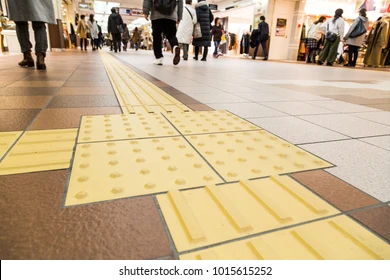piso_tatil: (1, 74, 389, 259)
piso_tatil_alerta: (57, 132, 225, 209), (181, 125, 338, 185), (74, 111, 184, 143), (162, 109, 267, 137)
piso_tatil_direcional: (147, 172, 344, 255), (1, 126, 81, 177), (114, 94, 186, 106), (111, 83, 168, 94), (108, 76, 151, 84)
piso_tatil_direcional_horizontal: (1, 124, 81, 175)
piso_tatil_direcional_vertical: (145, 170, 342, 253), (112, 92, 184, 104), (109, 81, 166, 92), (106, 74, 149, 82)
